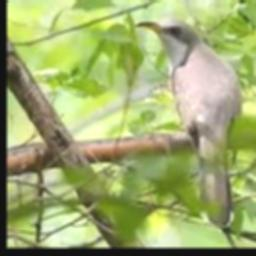Cuckoo: (135, 18, 241, 224)
